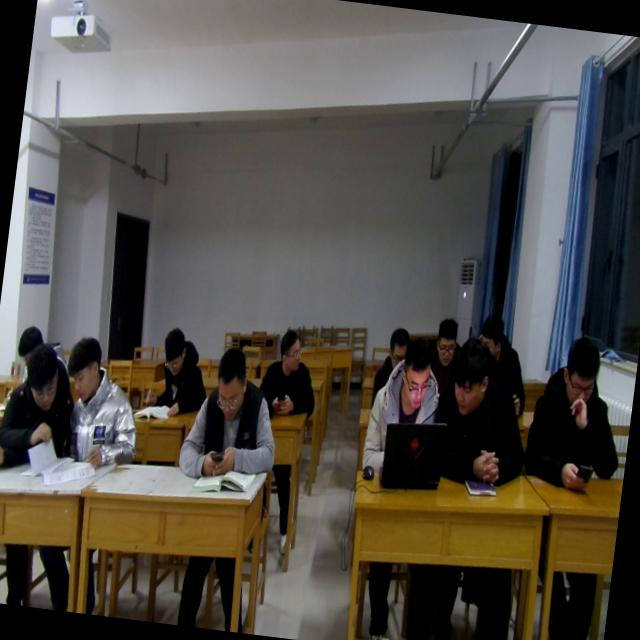down: (556, 331, 606, 413), (206, 337, 251, 421), (18, 344, 64, 422), (62, 327, 106, 407), (397, 330, 435, 410), (153, 322, 194, 376), (11, 315, 48, 369), (428, 311, 461, 371), (383, 320, 413, 364)
sit: (518, 333, 634, 497), (423, 334, 537, 496), (175, 344, 286, 486), (55, 330, 150, 476), (358, 328, 446, 484), (0, 337, 79, 471), (139, 324, 214, 418), (468, 311, 536, 414), (254, 324, 324, 421), (368, 324, 409, 410), (429, 314, 465, 400)
